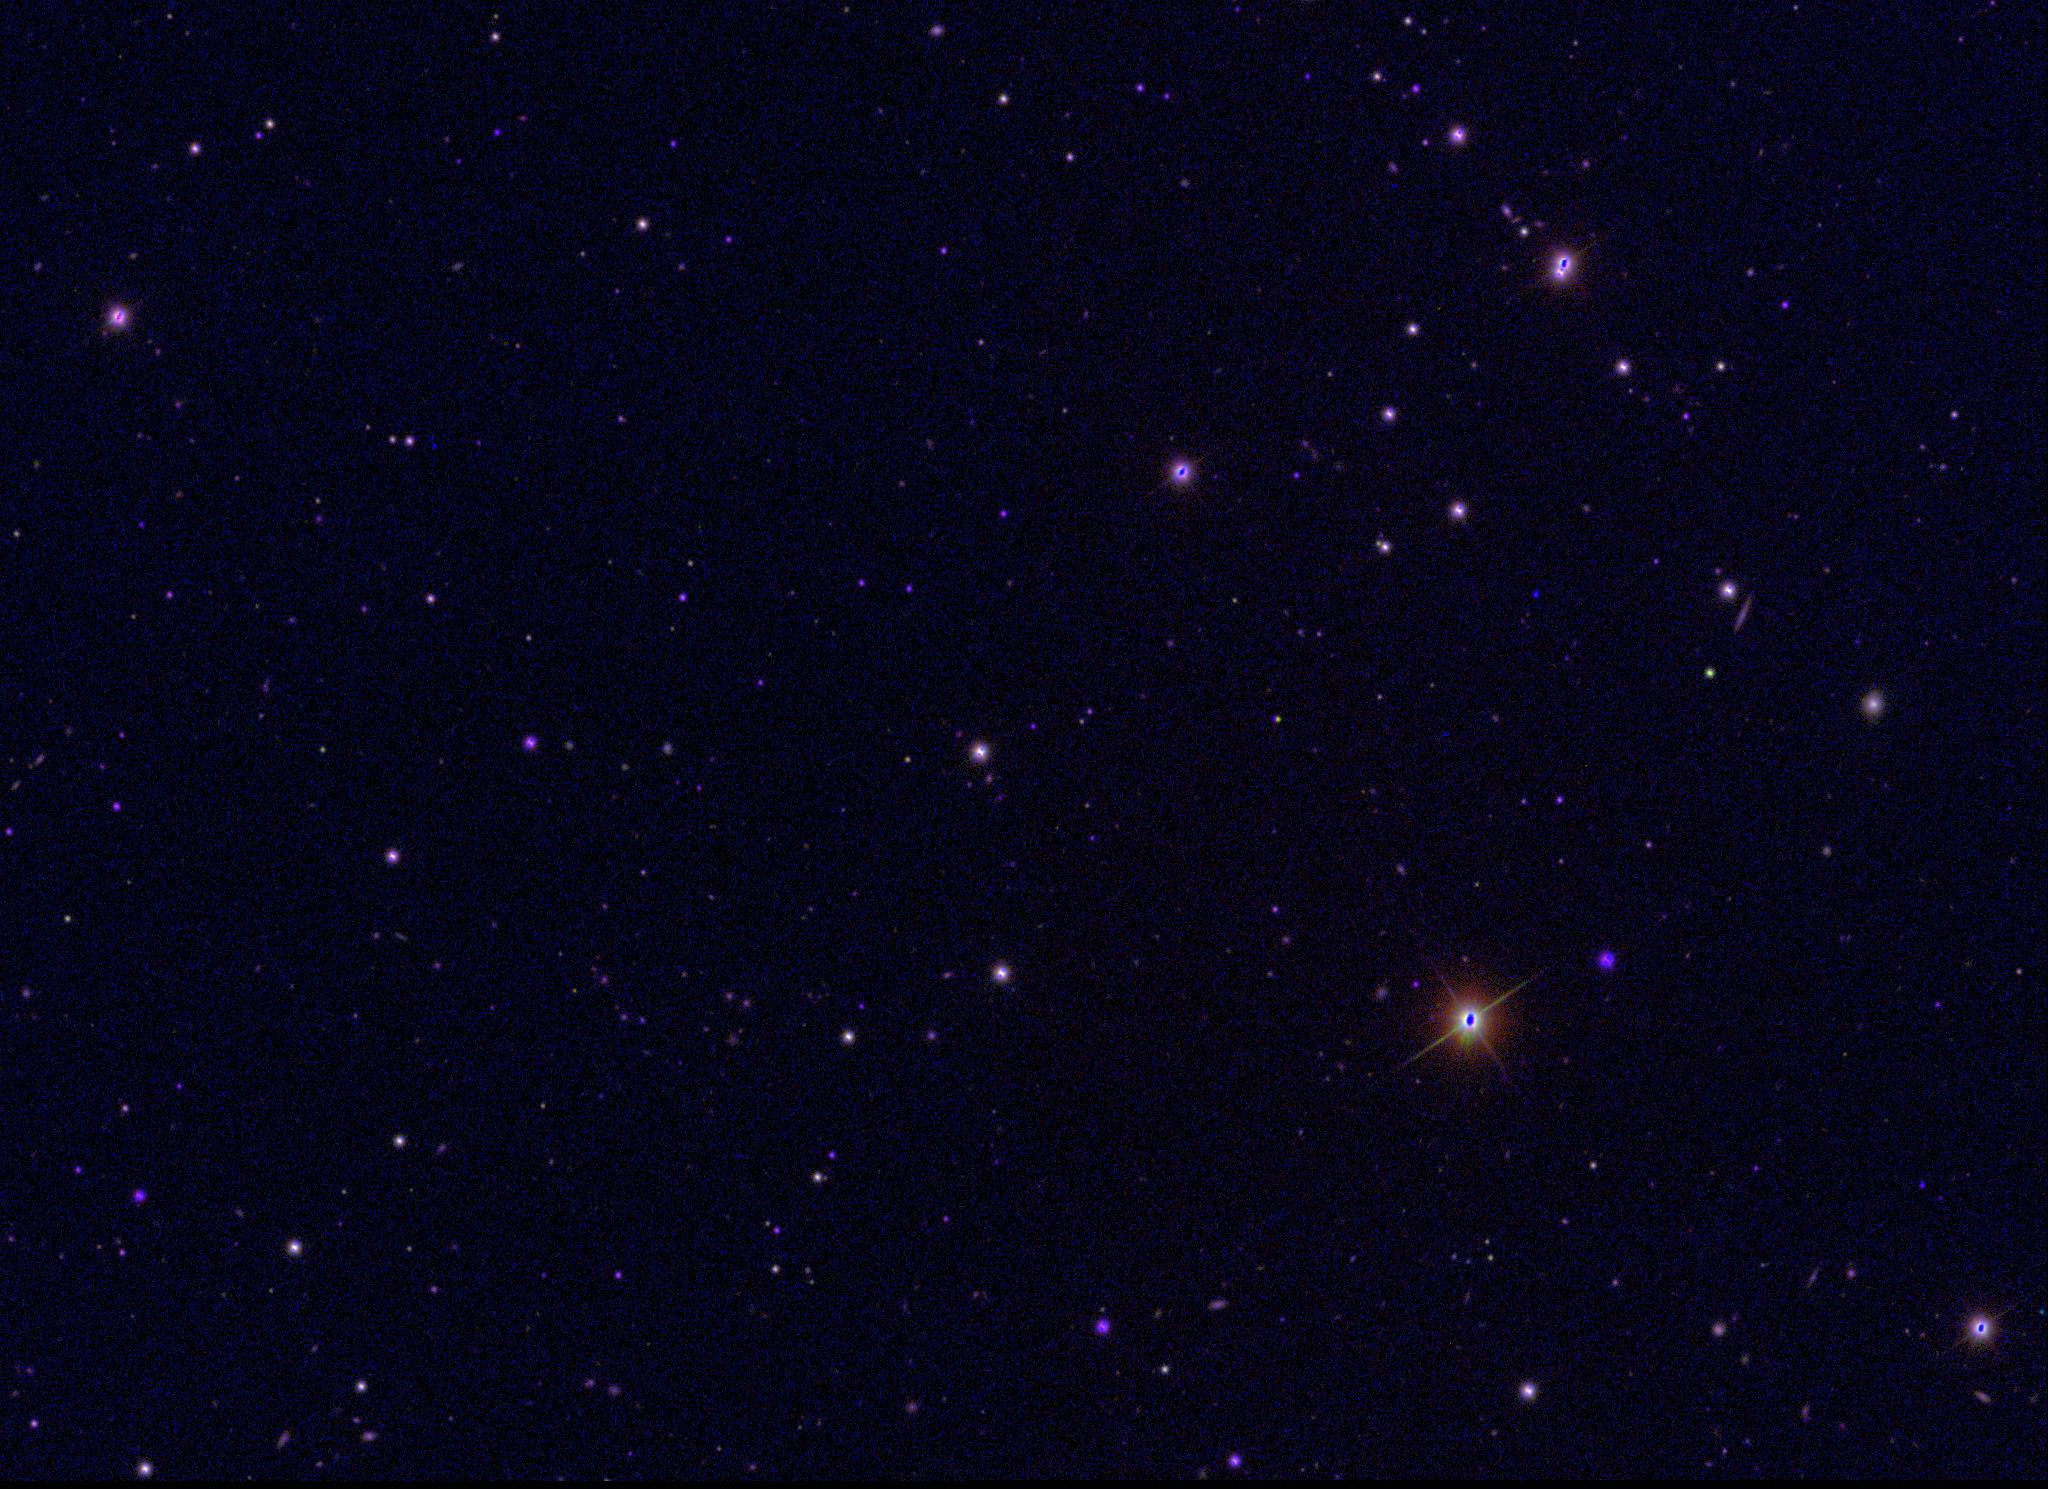L: (1526, 589, 1541, 603)
